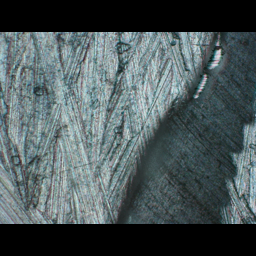d: (105, 32, 256, 223)
